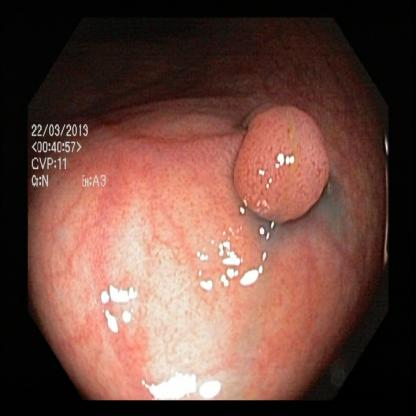Labels: (30, 118, 114, 198)
Polyps: (232, 85, 330, 238)
